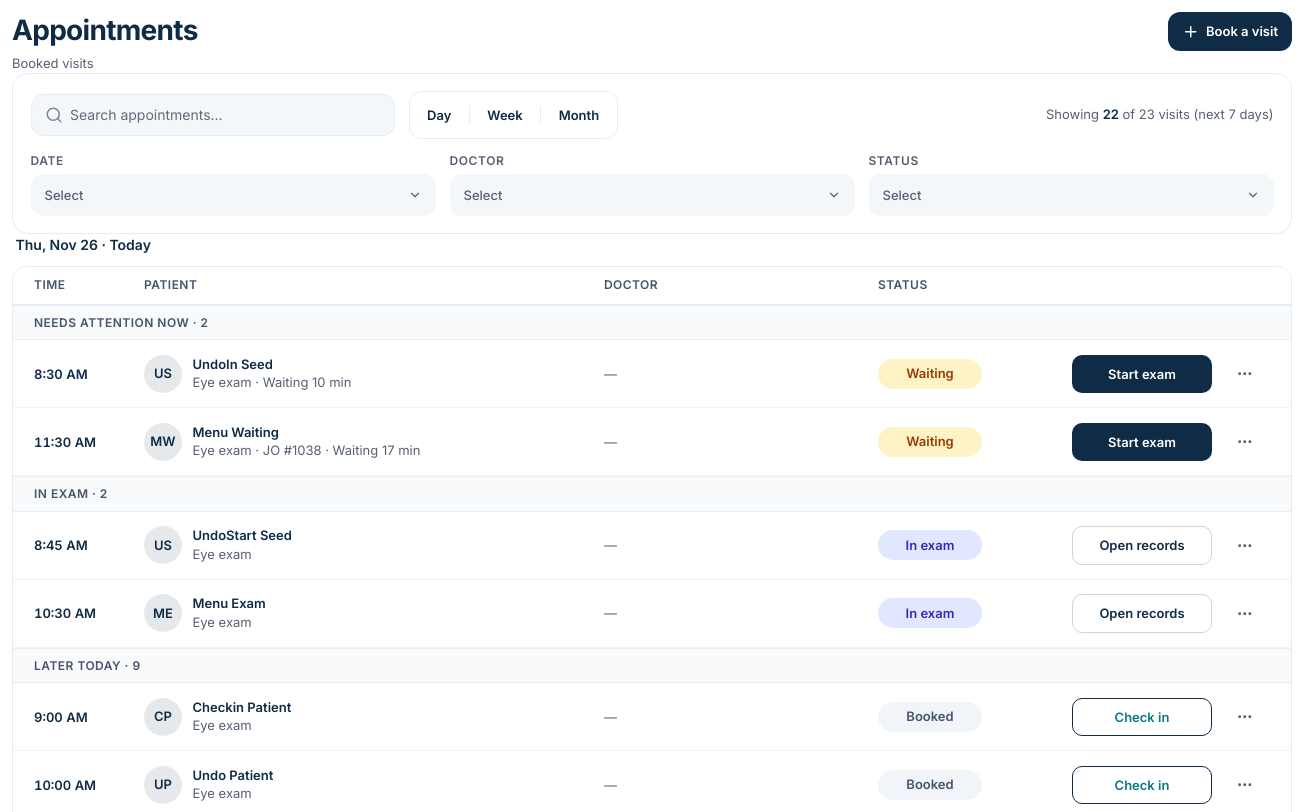
Test case: Appointments (staff) › checking in marks the visit Waiting, starts the wait and offers Start exam
Click the button "Check in" in the row of "9:00 AM": click(1142, 717) top-left (1072, 698), bottom-right (1212, 736)
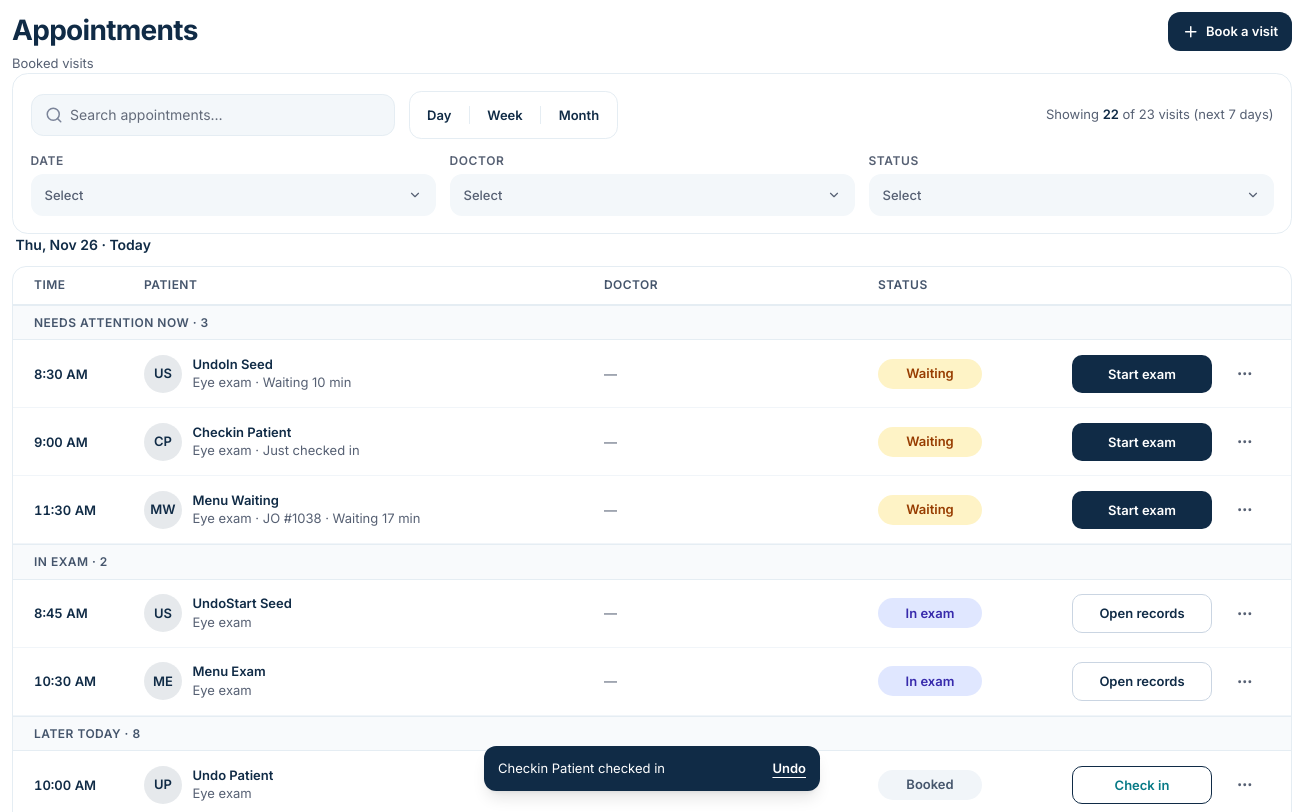
Check: the text "Waiting" in the row of "9:00 AM" is shown, box top-left (906, 433), bottom-right (954, 449)
Check: the text "Eye exam · Just checked in" is shown, box top-left (192, 441), bottom-right (360, 461)
